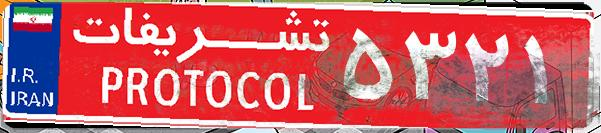1: (520, 20, 580, 115)
2: (460, 20, 520, 115)
3: (400, 20, 460, 115)
5: (340, 20, 400, 115)
تشریفات: (60, 8, 340, 125)
